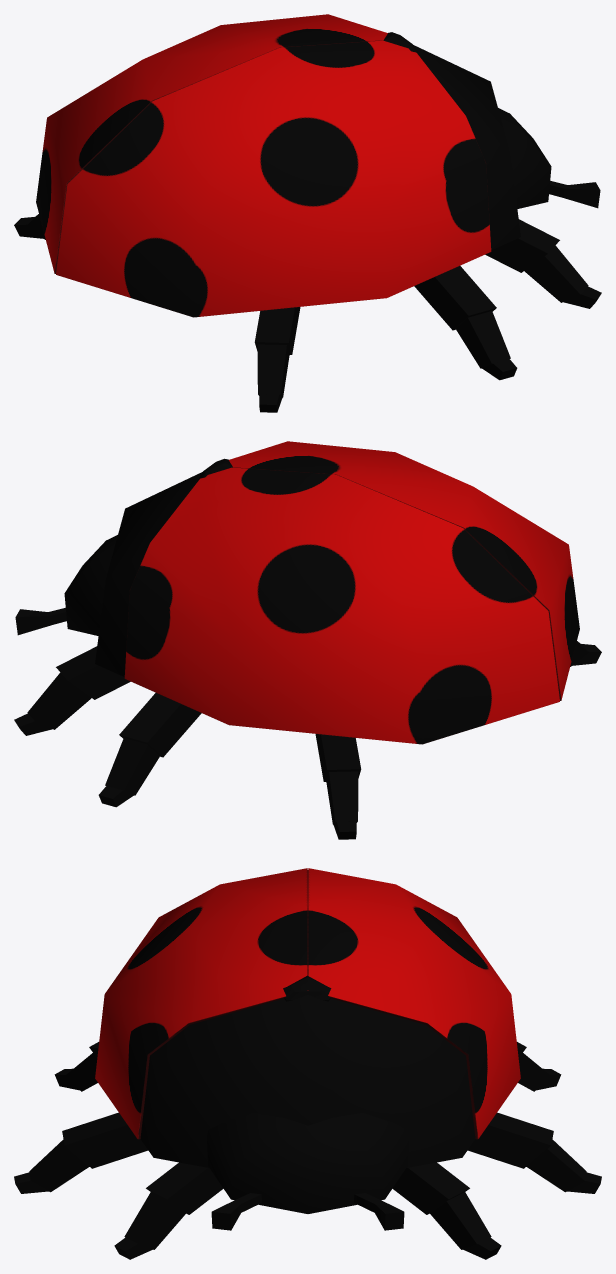
Rendered from ladybug.fbx.
3 views of the same model, one above another, from view 1: azimuth 30°, elevation 25°; view 2: azimuth 150°, elevation 25°; view 3: azimuth 270°, elevation 25° (orthographic).
Parts seen in each view (by area): view 1: R_wing_shell, L_wing_shell, body2, head, polySurface8, polySurface6, polySurface3, polySurface5, polySurface9, polySurface11, polySurface2; view 2: L_wing_shell, R_wing_shell, body2, head, polySurface17, polySurface15, polySurface12, polySurface14, polySurface18, polySurface20, polySurface1; view 3: body2, L_wing_shell, R_wing_shell, head, polySurface8, polySurface17, polySurface5, polySurface14, polySurface3, polySurface12, polySurface6, polySurface15 (+4 smaller).
Part boxes in pixels (<box>): R_wing_shell: <box>56,40,491,317</box>; L_wing_shell: <box>36,14,387,273</box>; body2: <box>383,32,520,249</box>; head: <box>498,108,551,208</box>; polySurface8: <box>414,266,496,330</box>; polySurface6: <box>456,311,510,368</box>; polySurface3: <box>524,245,588,302</box>; polySurface5: <box>485,219,559,272</box>; polySurface9: <box>257,344,289,397</box>; polySurface11: <box>254,307,300,354</box>; polySurface2: <box>549,181,600,208</box>; L_wing_shell: <box>124,467,559,744</box>; R_wing_shell: <box>229,441,579,700</box>; body2: <box>95,458,232,676</box>; head: <box>64,535,117,635</box>; polySurface17: <box>119,693,201,757</box>; polySurface15: <box>105,738,159,795</box>; polySurface12: <box>27,672,91,729</box>; polySurface14: <box>56,646,130,699</box>; polySurface18: <box>326,771,358,824</box>; polySurface20: <box>315,734,361,781</box>; polySurface1: <box>15,608,66,635</box>; body2: <box>140,975,475,1167</box>; L_wing_shell: <box>308,868,520,1139</box>; R_wing_shell: <box>95,868,307,1139</box>; head: <box>207,1113,408,1213</box>; polySurface8: <box>62,1112,148,1168</box>; polySurface17: <box>467,1112,553,1168</box>; polySurface5: <box>146,1162,223,1214</box>; polySurface14: <box>392,1162,469,1214</box>; polySurface3: <box>124,1192,185,1249</box>; polySurface12: <box>430,1192,491,1249</box>; polySurface6: <box>29,1139,89,1192</box>; polySurface15: <box>526,1139,586,1192</box>.
Bounding box in the file's own units: 5.84 × 2.73 × 5.98.
